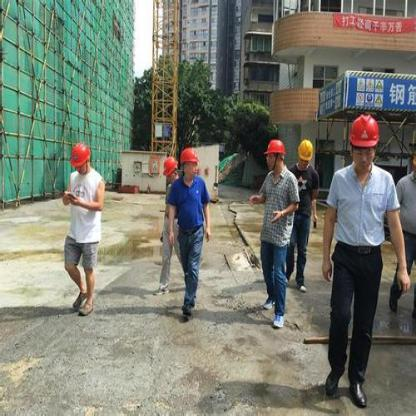helmet: (347, 112, 381, 145), (67, 141, 91, 167), (297, 136, 315, 161), (163, 153, 178, 178), (265, 138, 287, 154), (180, 146, 200, 161)
person: (325, 114, 396, 406), (256, 136, 295, 320), (61, 140, 100, 320), (174, 141, 205, 308), (292, 136, 319, 293), (154, 152, 181, 298), (391, 153, 415, 311)
